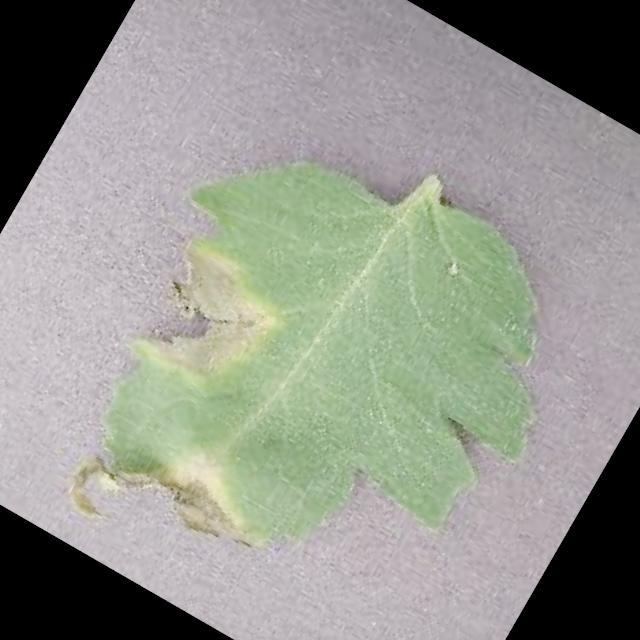Tomato late blight leaf: (14, 77, 619, 640)
